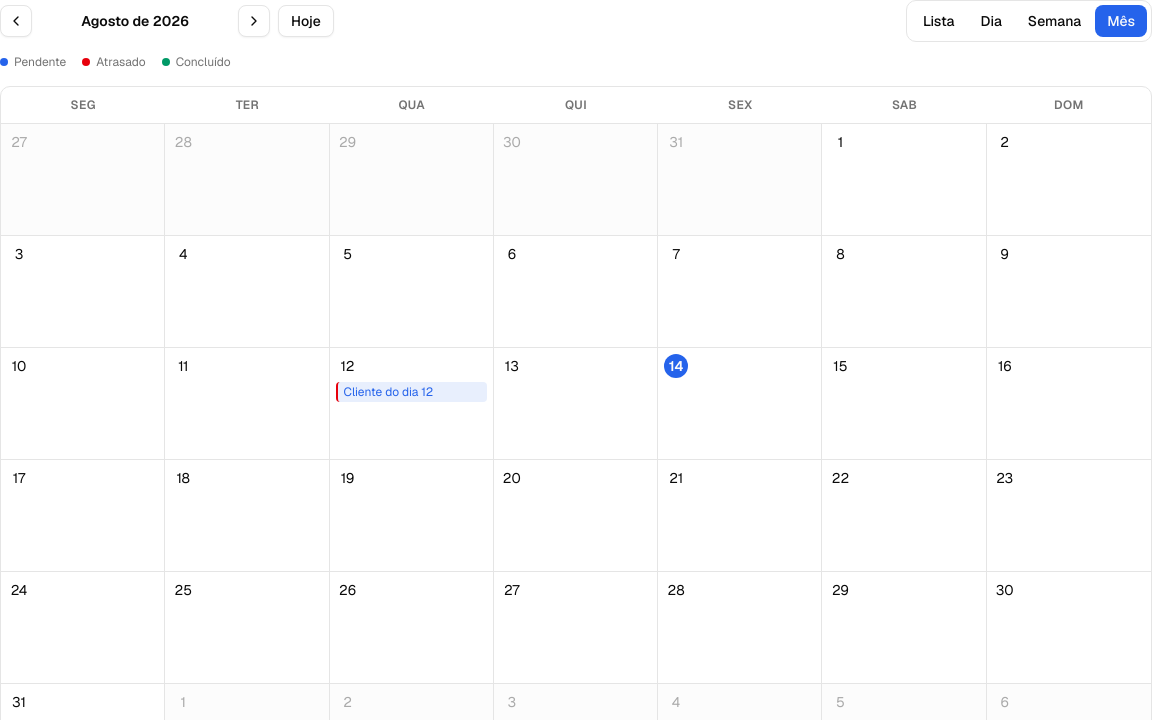
Agenda2Calendario — diálogo do dia e ações do dono › dialogo-pelo-mes: clicar na célula abre o diálogo do dia com o item
The width and height of the screenshot is (1152, 720).
Expected: the text "Cliente do dia 12" is shown, [344,384,433,400]
Click the button with aria-label "12 de agosto" at (412, 404), box [330,348,494,460]
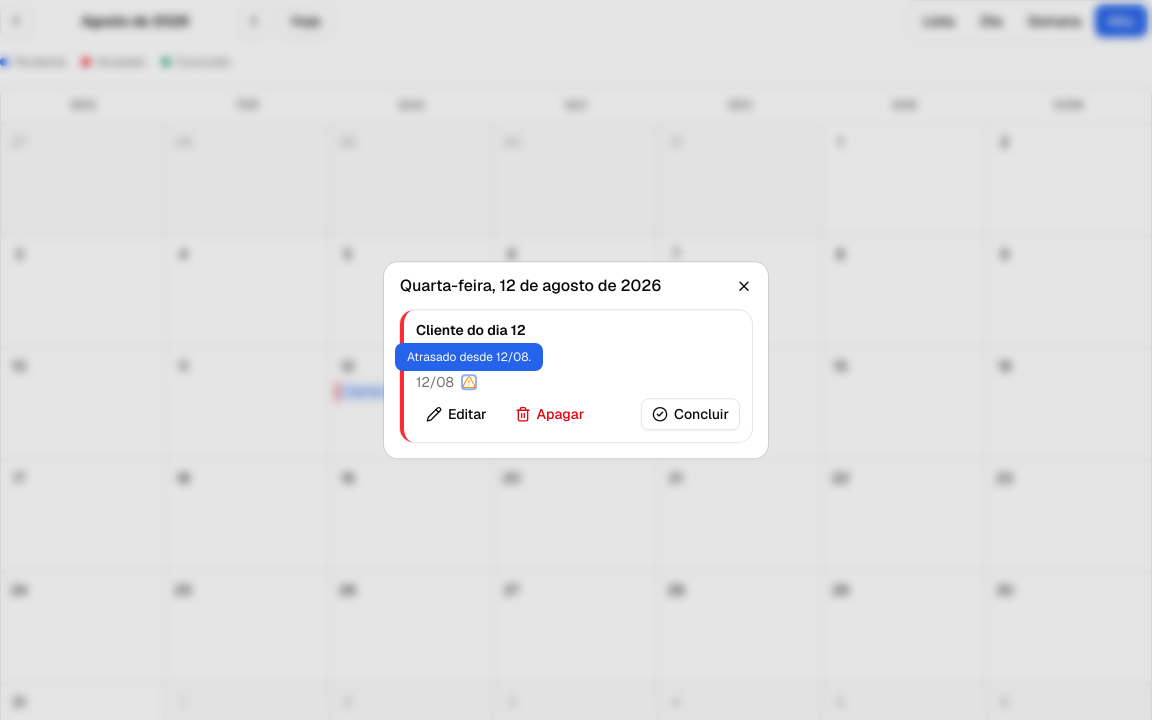
Now the text "Cliente do dia 12" is shown, box [416,321,526,339]
